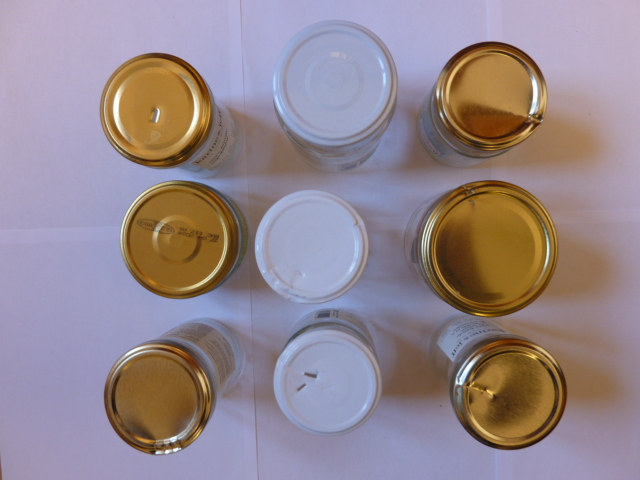damaged: (453, 341, 570, 454)
intact: (120, 180, 239, 300)
